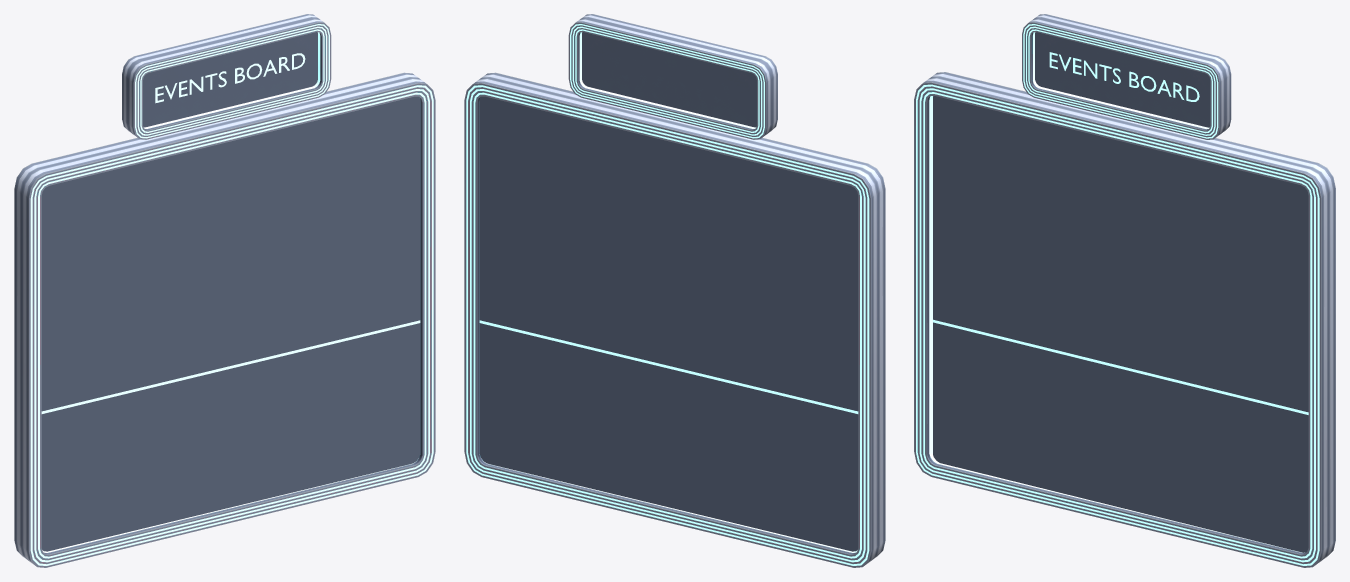
File: obj_events.gltf
The picture shows the model from 3 angles, left to right: view 1: azimuth 30°, elevation 25°; view 2: azimuth 150°, elevation 25°; view 3: azimuth 330°, elevation 25°; orthographic projection.
Visible parts, largest first — view 1: obj_events; view 2: obj_events; view 3: obj_events.
Part boxes in pixels (left/top/right/bottom): obj_events: left=14, top=14, right=435, bottom=567; obj_events: left=464, top=14, right=885, bottom=567; obj_events: left=914, top=14, right=1335, bottom=567.
Size of what is drawn, in the model's own units: 3.04 by 3.41 by 0.1875.
2 materials, 1 textured.
